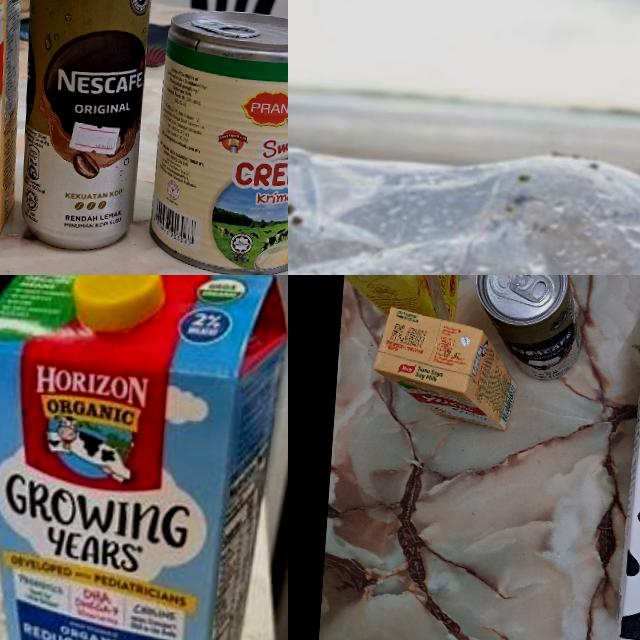aba de lata: (189, 14, 263, 44), (507, 275, 551, 302)
caixinha: (0, 275, 288, 640), (370, 306, 522, 432), (341, 275, 465, 322)
garrafa plástica: (288, 98, 640, 275)
lata: (148, 8, 288, 275), (14, 0, 155, 252), (468, 275, 589, 382)
tampa plástica: (70, 275, 169, 336)
